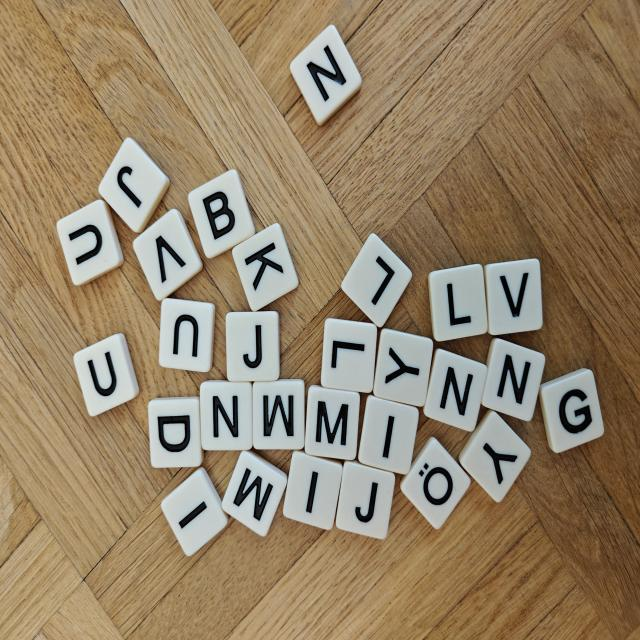b: (188, 170, 255, 258)
d: (148, 397, 203, 468)
g: (539, 368, 603, 452)
i: (161, 467, 228, 556), (358, 395, 418, 474), (283, 451, 343, 529)
j: (98, 138, 169, 232), (336, 461, 395, 539), (225, 311, 280, 381)
k: (232, 224, 299, 311)
l: (342, 234, 412, 327), (428, 264, 487, 342), (321, 319, 377, 393)
m: (222, 451, 287, 536), (305, 386, 359, 460), (253, 379, 305, 449)
n: (290, 25, 361, 125), (424, 348, 487, 431), (482, 338, 545, 421), (200, 381, 253, 450)
o_dot: (400, 437, 470, 529)
u: (57, 200, 123, 285), (74, 333, 139, 416), (159, 298, 215, 372)
v: (133, 209, 202, 300), (484, 258, 543, 335)
y: (459, 410, 531, 502), (373, 329, 433, 406)
